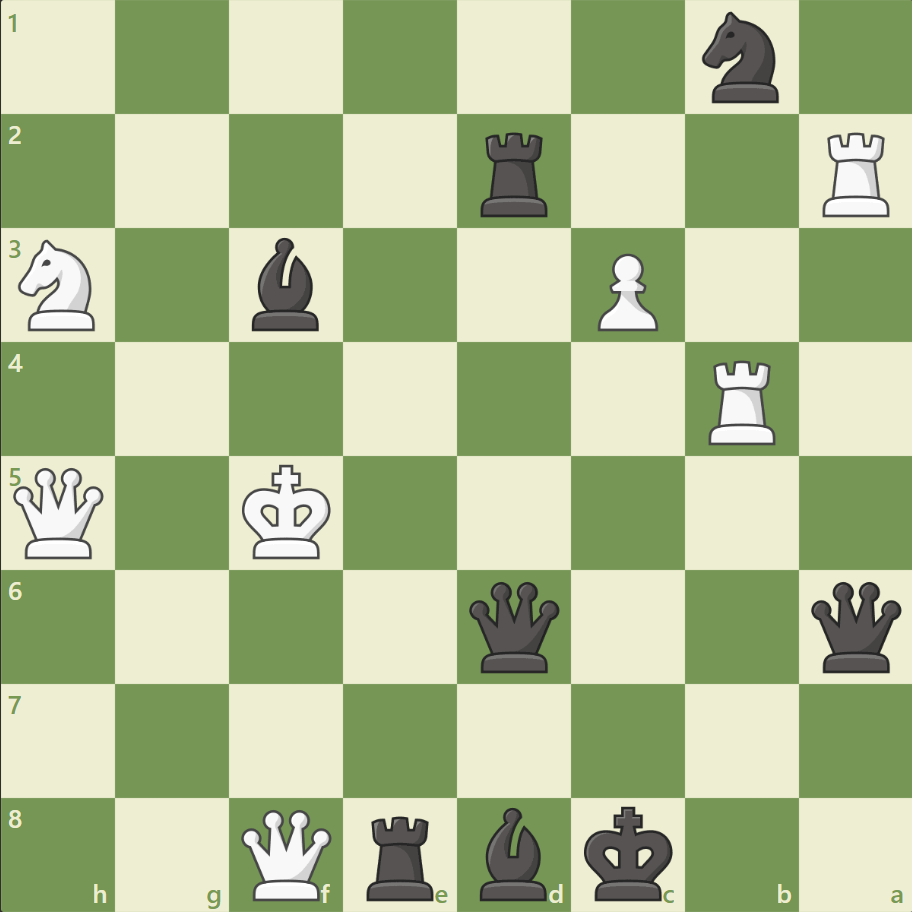K: (238, 458, 338, 566)
N: (11, 234, 108, 337)
P: (588, 246, 662, 337)
Q: (237, 804, 336, 903), (10, 463, 109, 562)
R: (700, 352, 783, 449), (814, 125, 897, 222)
b: (471, 801, 555, 904), (244, 233, 328, 336)
k: (579, 798, 679, 906)
n: (692, 7, 789, 110)
q: (805, 576, 904, 676), (464, 576, 563, 676)
r: (473, 125, 556, 222), (360, 806, 442, 904)
